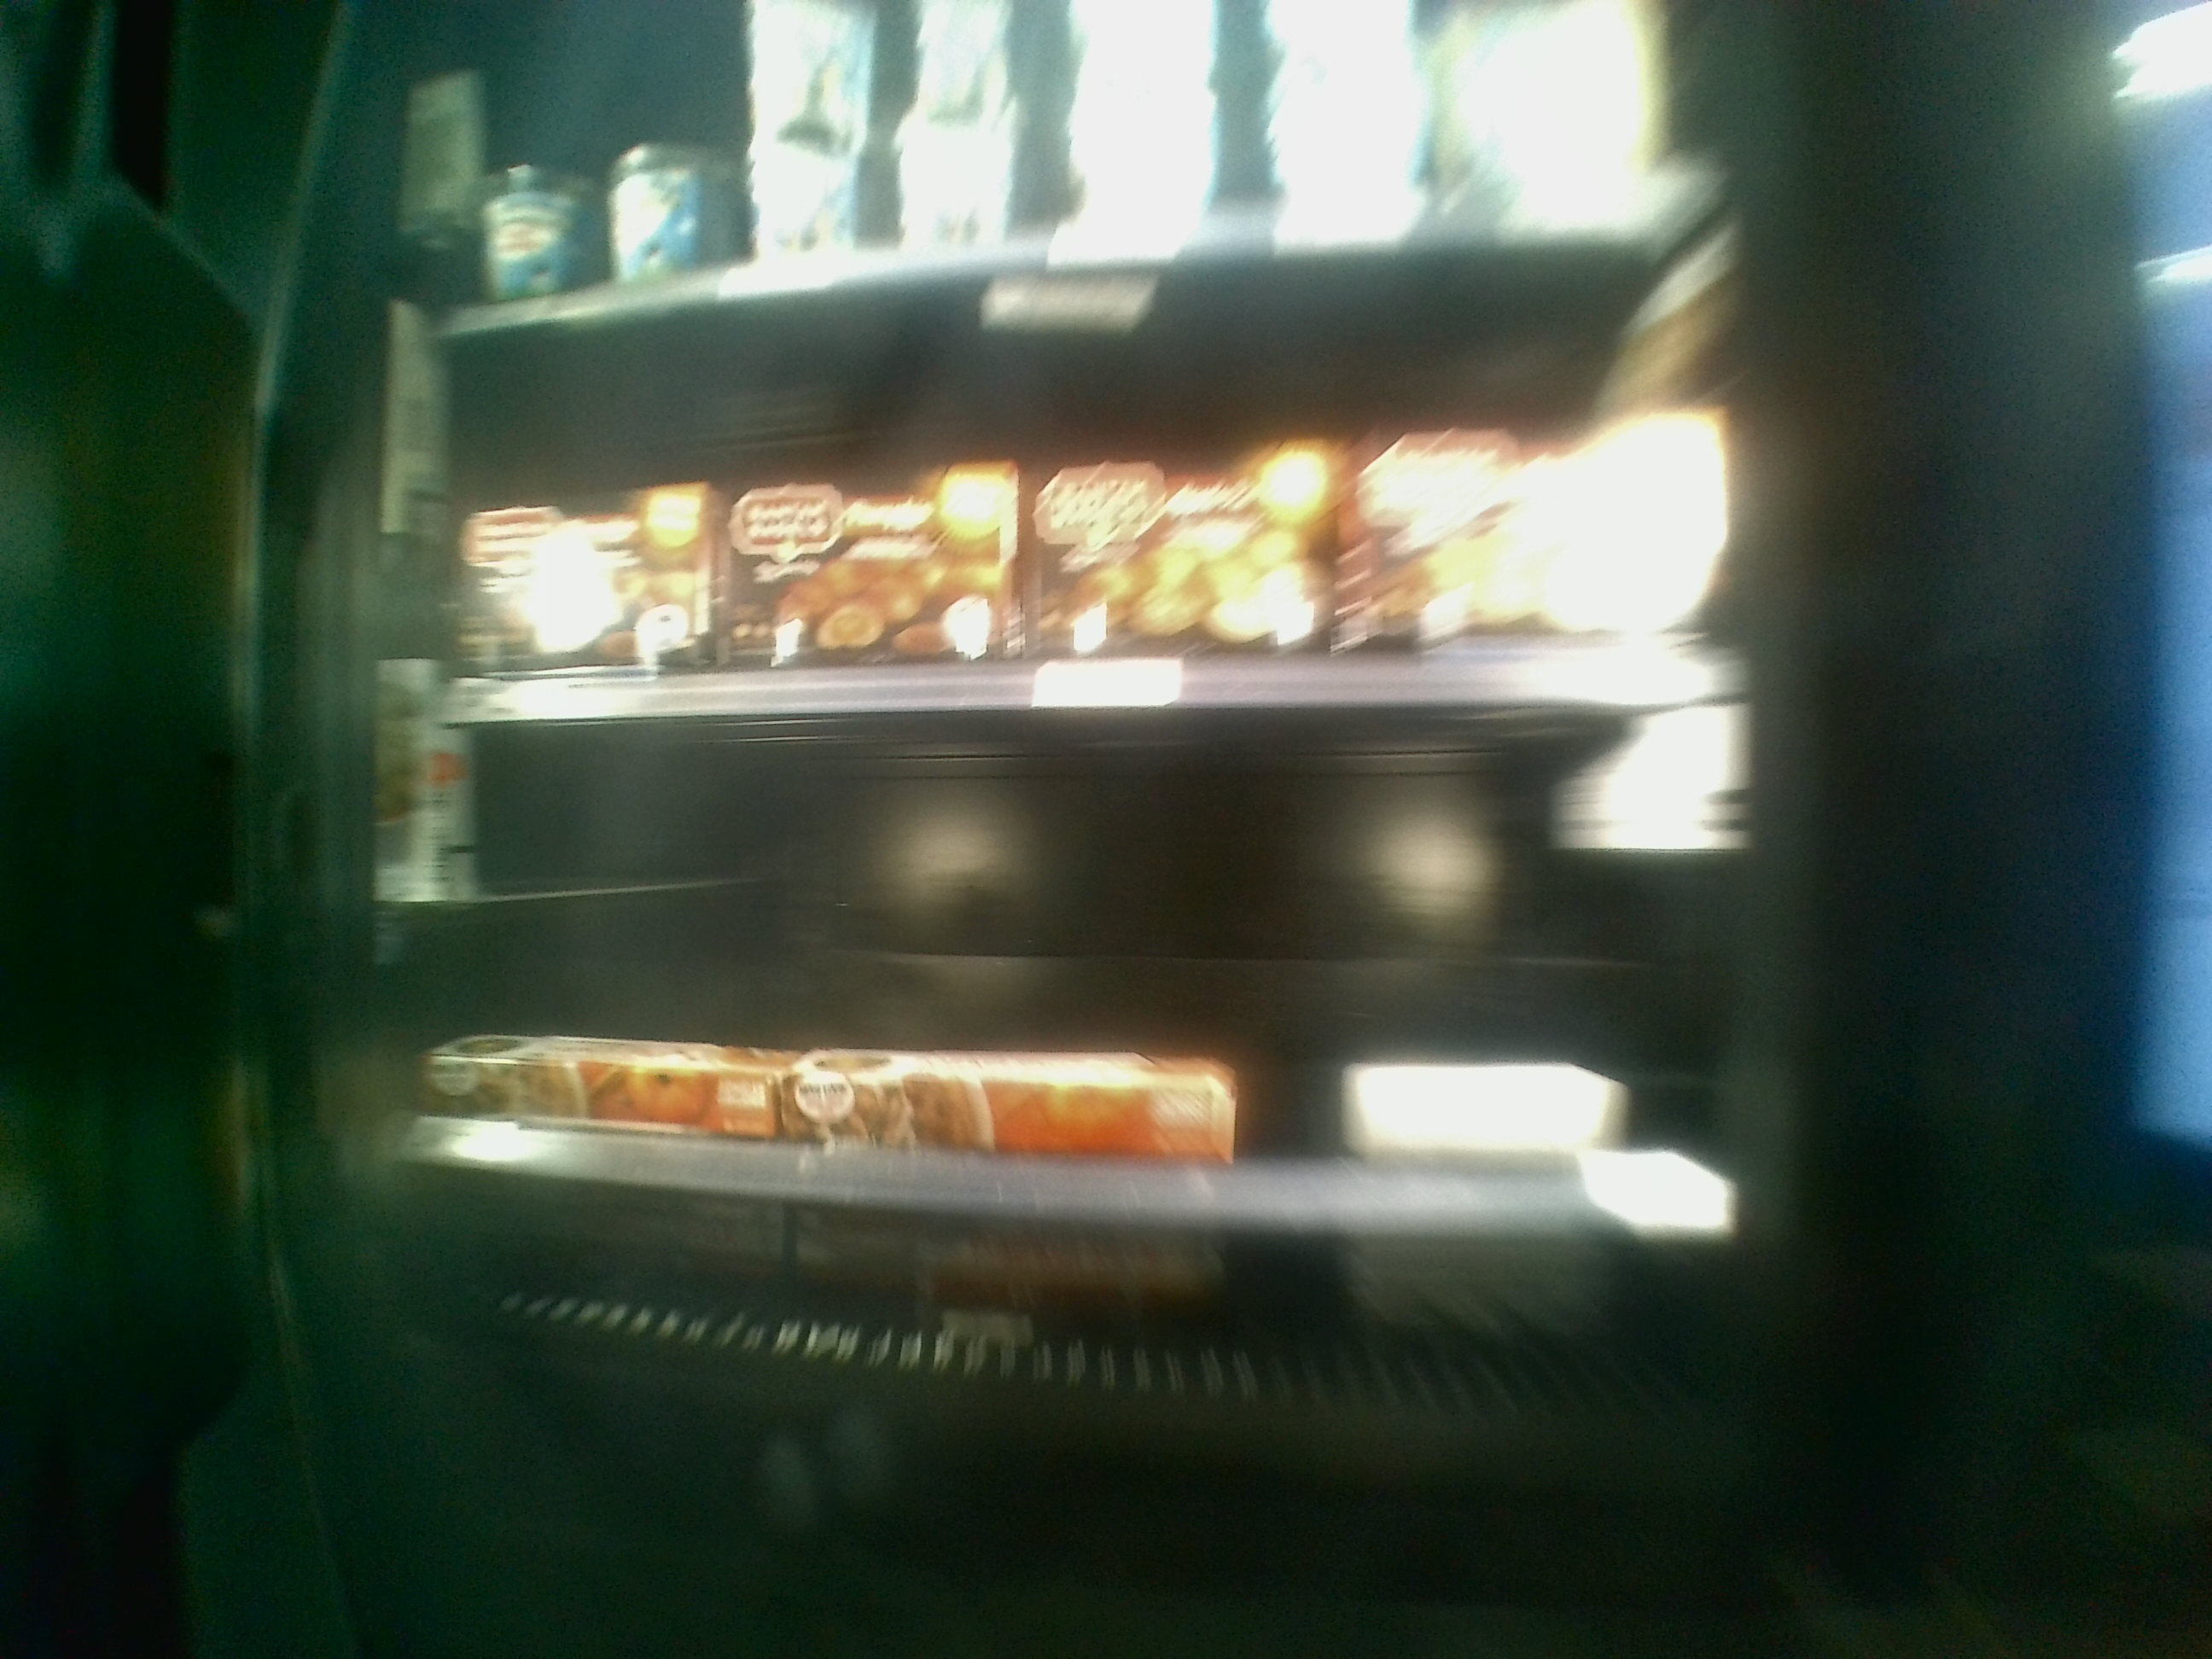shelf: (408, 690, 1705, 1215), (408, 324, 1695, 685)
